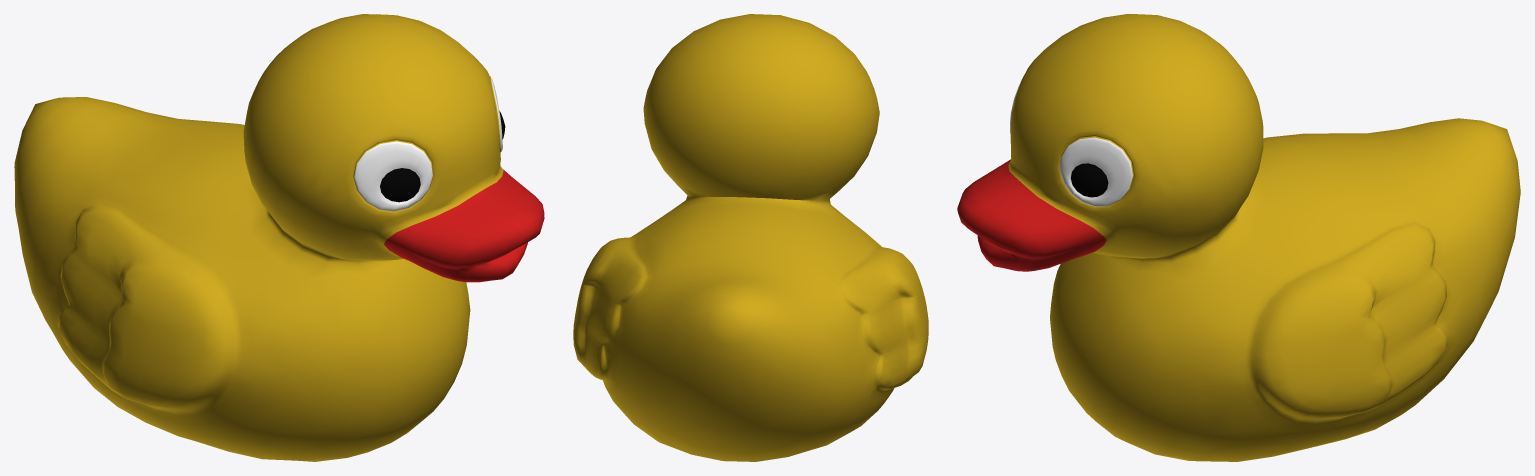
The picture shows the model from 3 angles, left to right: view 1: azimuth 30°, elevation 25°; view 2: azimuth 150°, elevation 25°; view 3: azimuth 270°, elevation 25°; orthographic projection. The views are drawn at different scales.
Visible parts, largest first — view 1: duck_head; view 2: duck_head; view 3: duck_head.
Boxes of the visible parts, bbox=[...] form: duck_head: bbox=[14, 14, 544, 461]; duck_head: bbox=[573, 14, 928, 461]; duck_head: bbox=[957, 14, 1520, 461].
Size of the model in its own units: 26.13 by 35.49 by 29.46.
